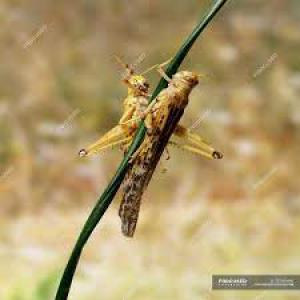locust: (81, 41, 237, 245)
